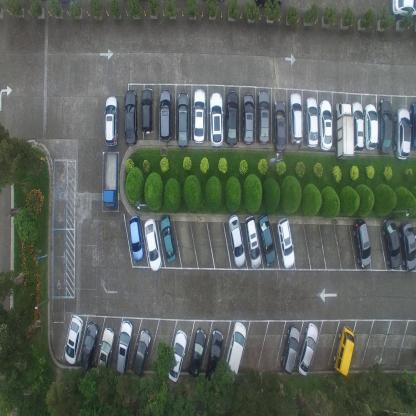car: (223, 321, 246, 382), (296, 322, 318, 377), (204, 328, 224, 386), (333, 324, 355, 376), (335, 100, 354, 160), (167, 327, 187, 381), (95, 326, 115, 380), (130, 327, 152, 376), (226, 214, 245, 270), (382, 215, 402, 268), (279, 324, 299, 376), (64, 313, 84, 364), (243, 214, 261, 270), (115, 318, 133, 374), (257, 212, 276, 265), (352, 218, 372, 268), (276, 216, 295, 268), (143, 218, 161, 272), (187, 325, 206, 376), (80, 319, 99, 370), (102, 152, 118, 211), (123, 89, 138, 147), (394, 107, 410, 161), (175, 91, 190, 148), (288, 90, 303, 146), (208, 92, 223, 147), (159, 215, 176, 263), (399, 220, 415, 271), (378, 97, 392, 155), (104, 95, 119, 148), (192, 88, 206, 144), (363, 102, 379, 150), (225, 90, 238, 148), (319, 98, 333, 150), (305, 96, 319, 148), (128, 215, 143, 263), (158, 89, 171, 144), (140, 87, 154, 136), (352, 98, 364, 154), (257, 90, 269, 146), (242, 93, 254, 146), (274, 99, 285, 154), (391, 0, 416, 20), (410, 101, 416, 150)
